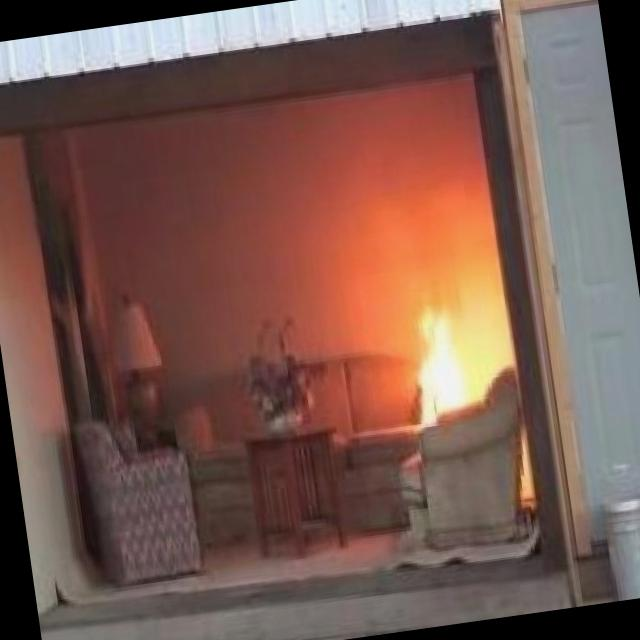fire: (387, 258, 494, 414)
